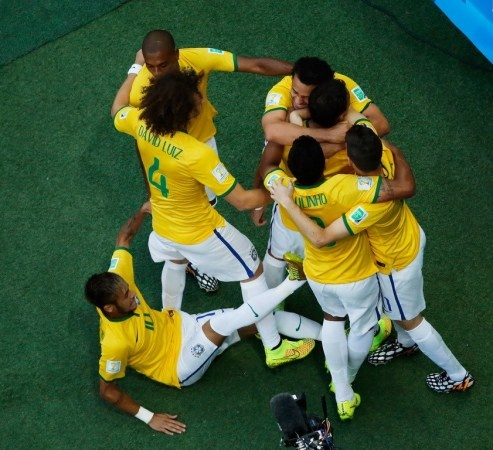falling: (76, 200, 318, 441)
